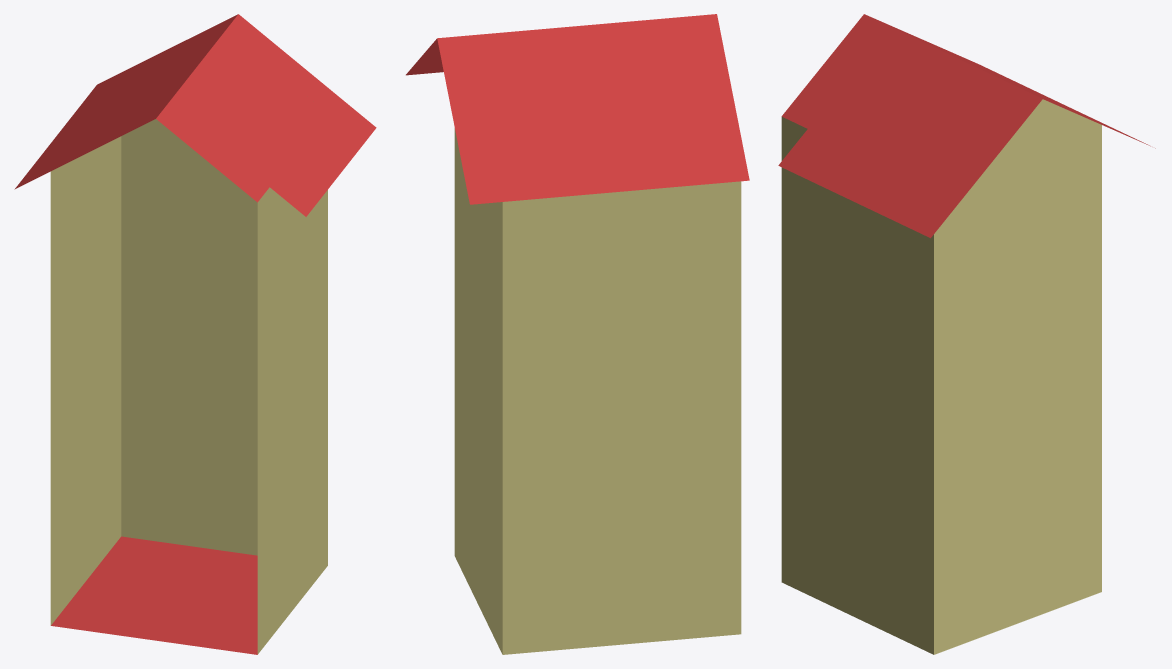
3 renders of one model, left to right at view 1: azimuth 30°, elevation 25°; view 2: azimuth 150°, elevation 25°; view 3: azimuth 270°, elevation 25°, orthographic. The views are drawn at different scales.
Bounding box in the file's own units: 7.64 × 7.2 × 11.25.
